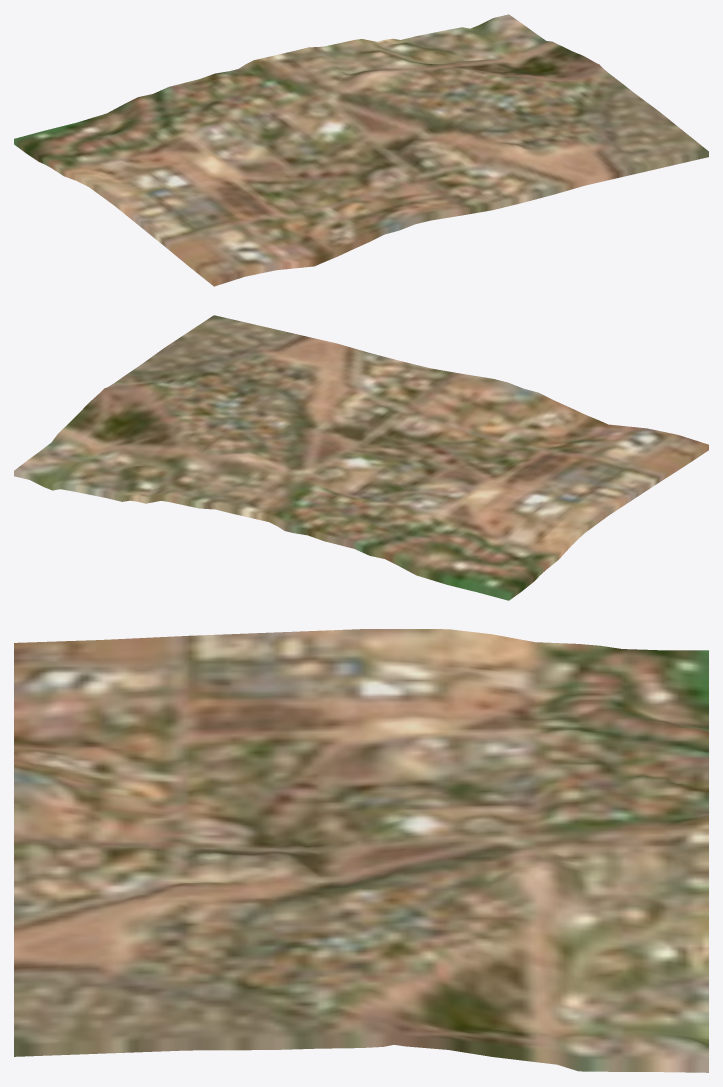
The model's file is terrain_r3_c1_lod2.glb.
3 renders of one model, top to bottom at view 1: azimuth 30°, elevation 25°; view 2: azimuth 150°, elevation 25°; view 3: azimuth 270°, elevation 25°, orthographic. The views are drawn at different scales.
Visible parts, largest first — view 1: terrain_r3_c1_lod2; view 2: terrain_r3_c1_lod2; view 3: terrain_r3_c1_lod2.
Part boxes in pixels (bbox=[...]): terrain_r3_c1_lod2: bbox=[14, 14, 708, 286]; terrain_r3_c1_lod2: bbox=[14, 315, 708, 600]; terrain_r3_c1_lod2: bbox=[14, 629, 708, 1072].
Size of the model in its own units: 1125 by 67.36 by 787.
Materials: 1 (1 with a texture image).
